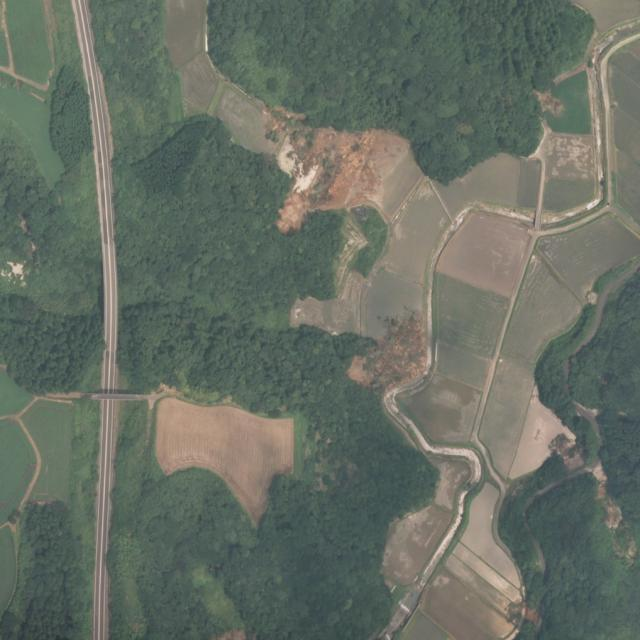landslide: (280, 128, 422, 227), (348, 308, 427, 392)
